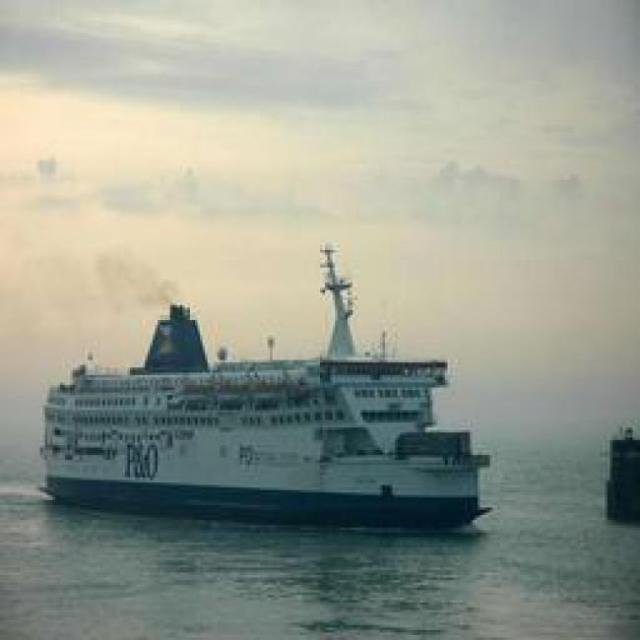boat: (24, 348, 516, 557)
